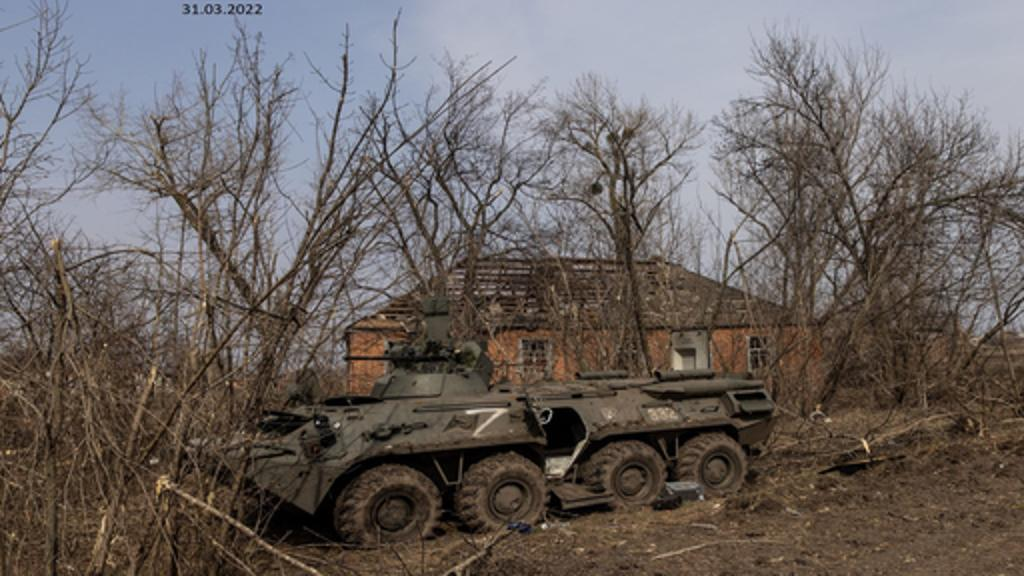APC-IFV: (172, 320, 770, 538)
